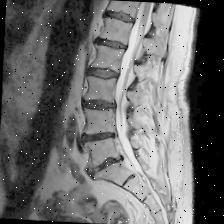disc: (86, 62, 124, 86), (102, 6, 140, 28)
hdisc: (80, 150, 131, 184), (78, 127, 122, 150), (82, 94, 120, 118), (92, 32, 132, 54)
